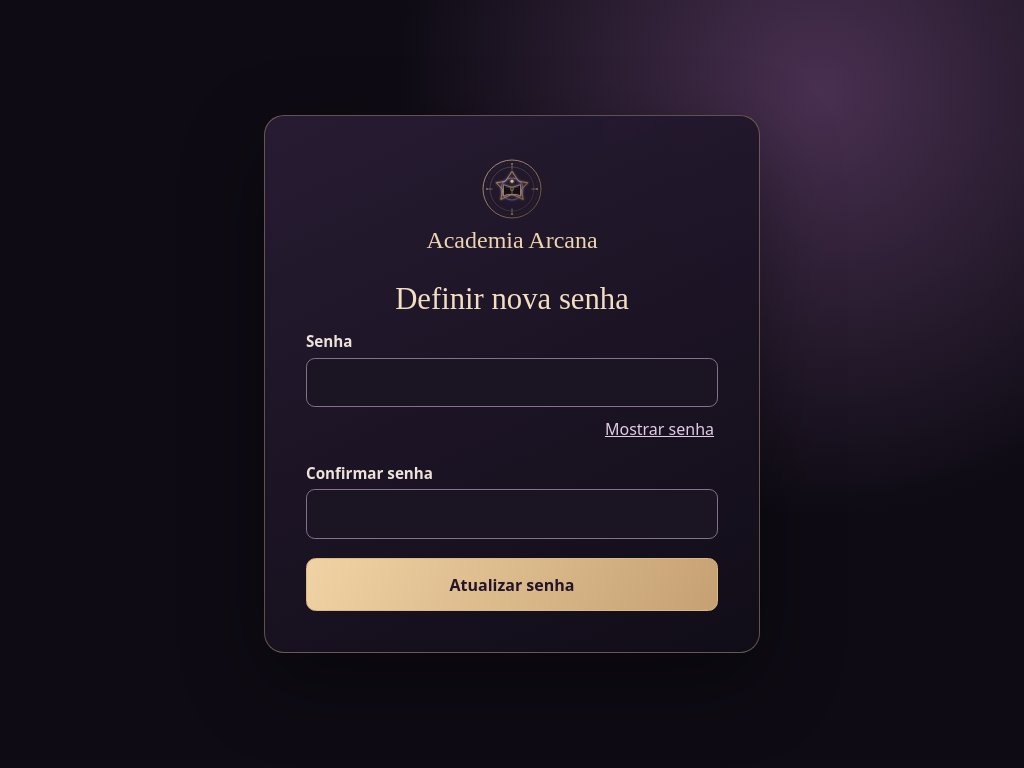
Test: AuthForm › updates the password when confirmation matches
Type "new-password" into the password field labelled "Senha" at (512, 383), box [306, 358, 718, 407]
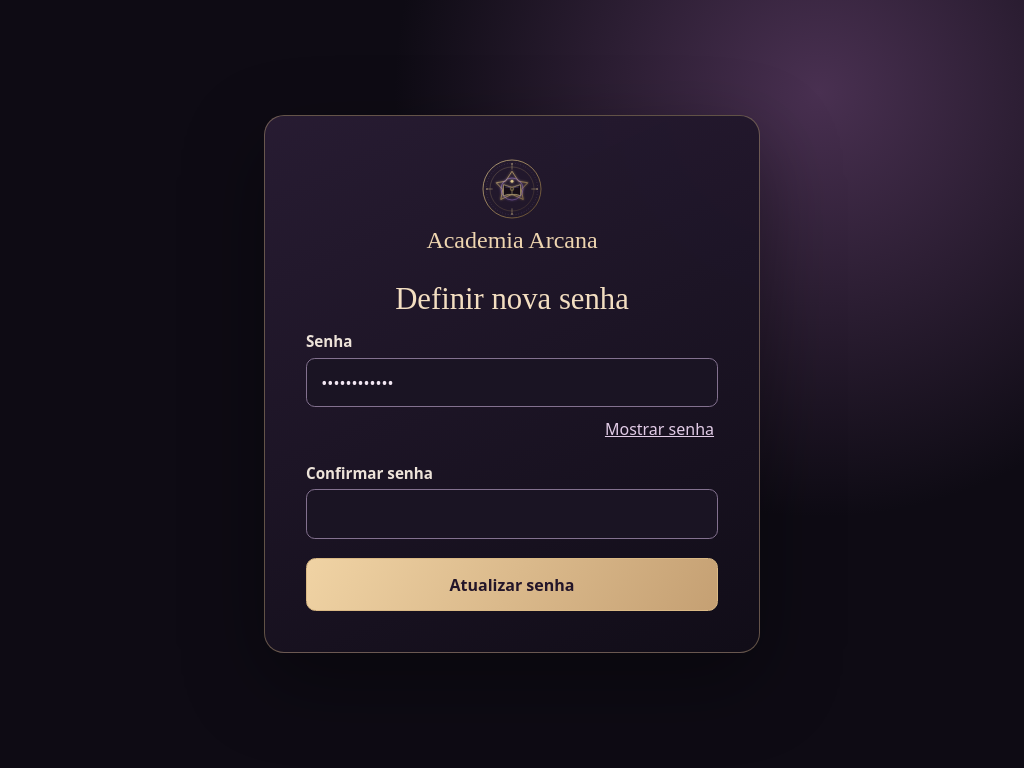
Type "new-password" into the password field labelled "Confirmar senha" at (512, 514), box [306, 489, 718, 539]
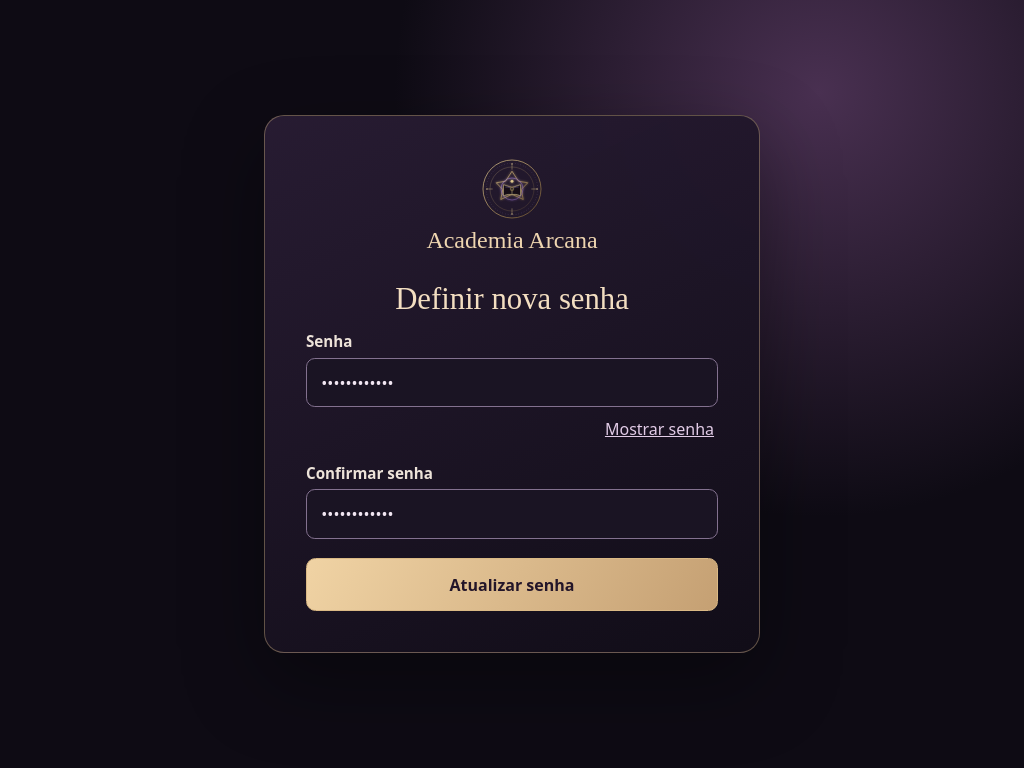
Click the button "Atualizar senha" at (512, 584), box [306, 558, 718, 611]
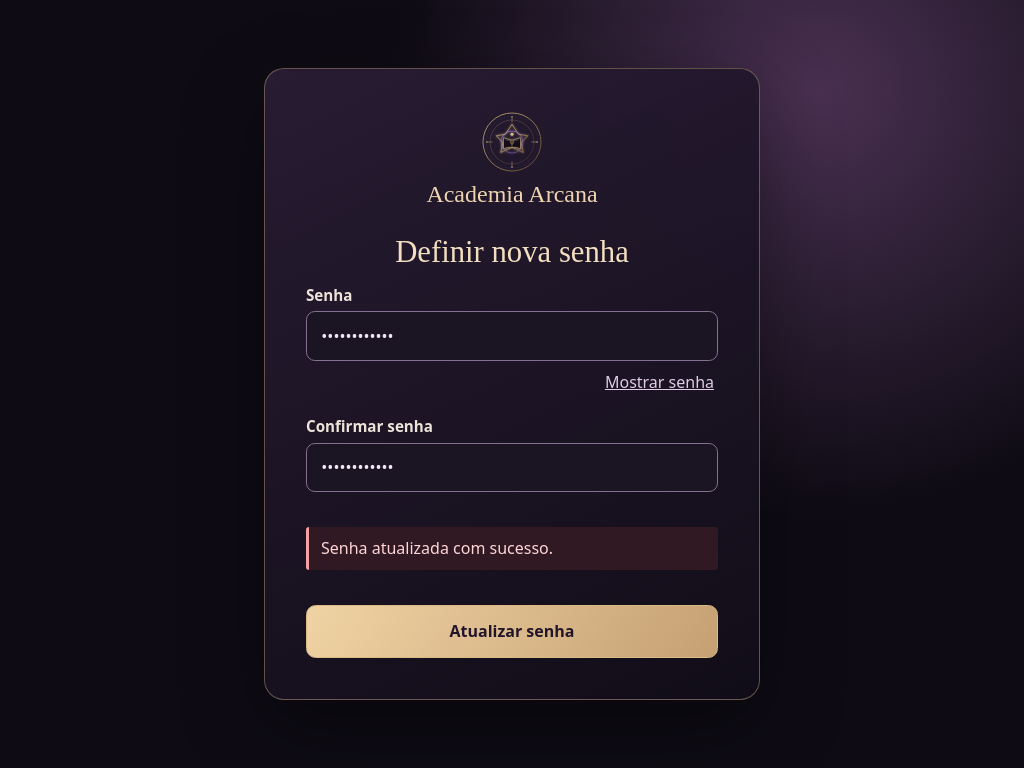
Result: the message reads "Senha atualizada com sucesso." at [321, 537, 553, 559]
